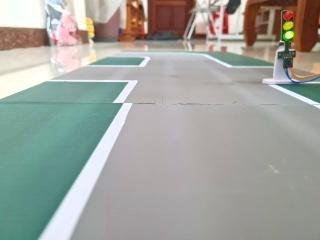green: (279, 8, 301, 57)
